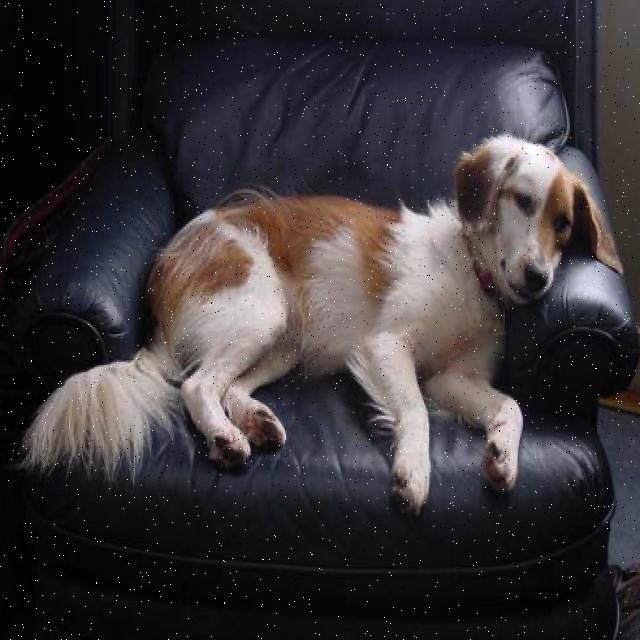Dog: (450, 111, 608, 312)
